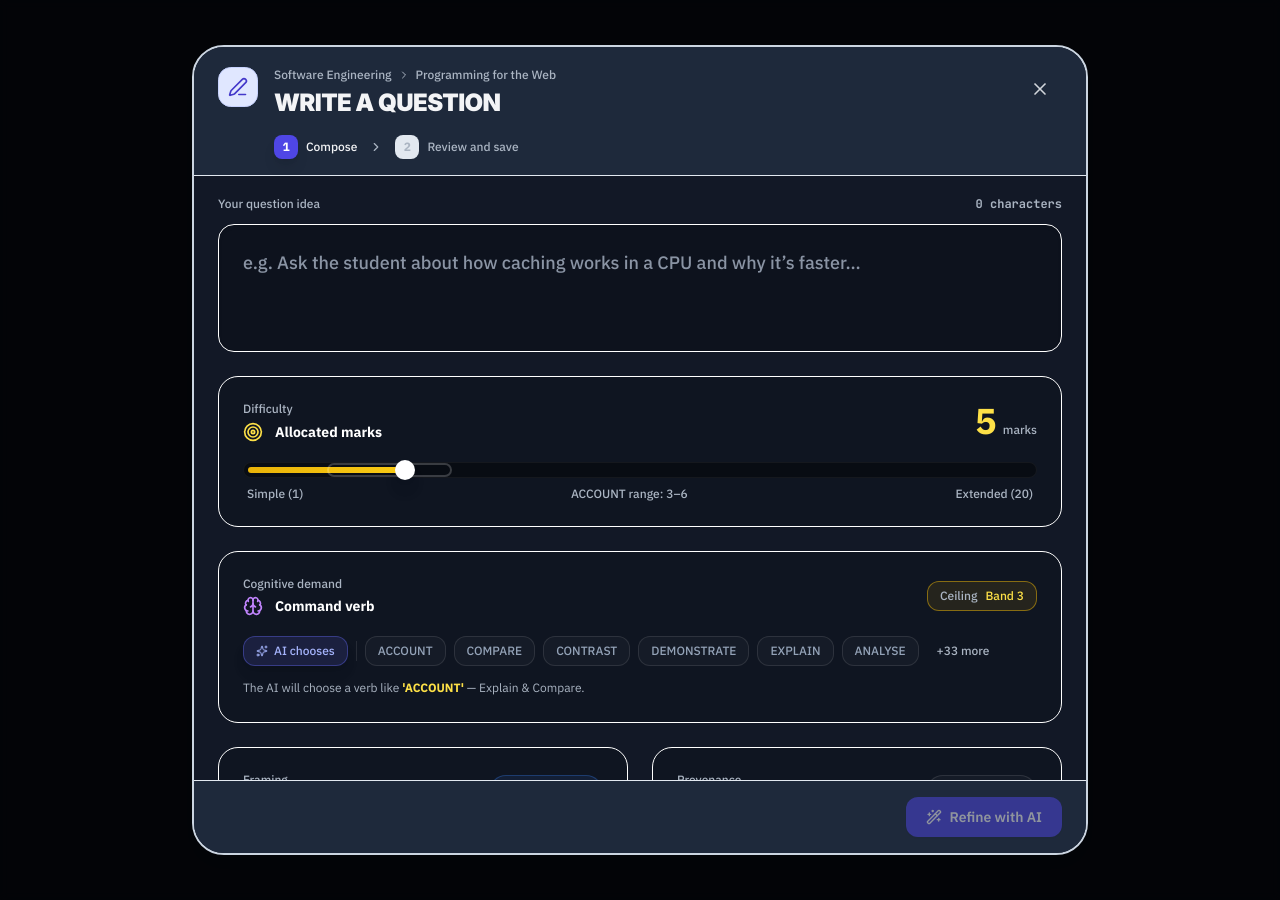
ManualPromptModal — composing › leaves the verb to the AI by default and pins it when one is chosen
Step 1. Replace the text in the text box labelled "Your question idea" with "ask about CPU caching" → coordinates (640, 288), box [218,224,1062,352]
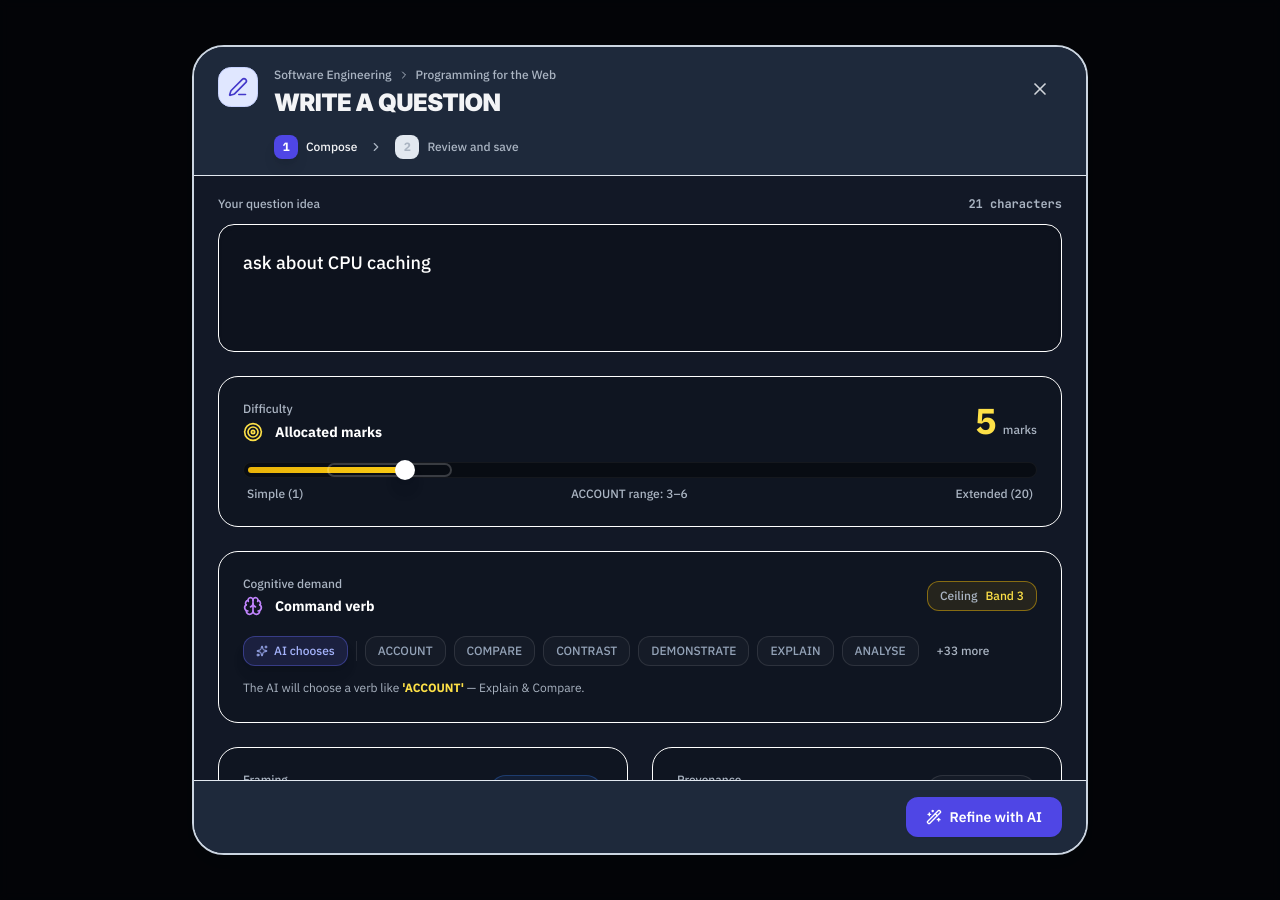
Step 2. Click the button "ANALYSE" → coordinates (880, 651), box [842,636,918,666]
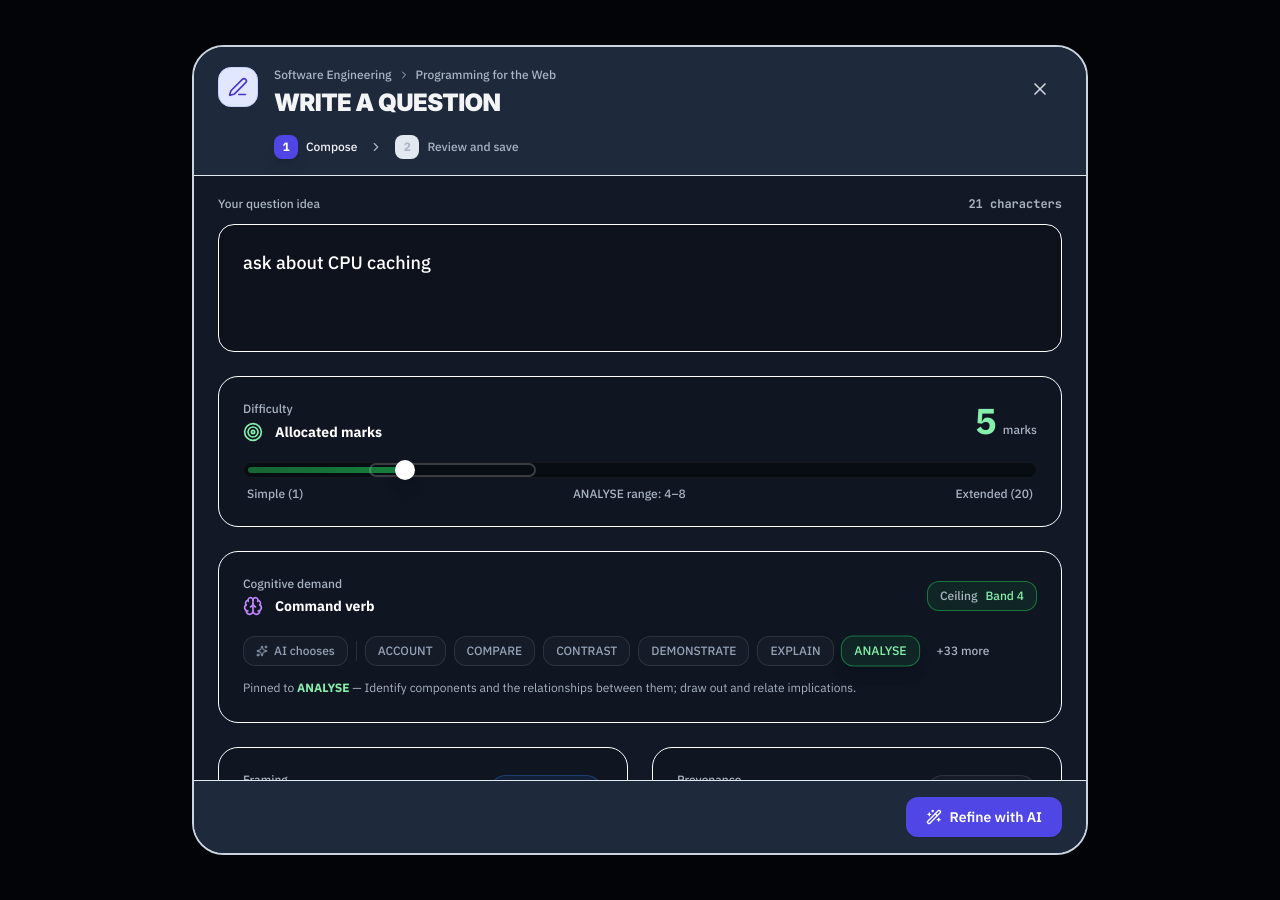
Step 3. Click the button "Refine with AI" → coordinates (984, 817), box [906,797,1062,837]
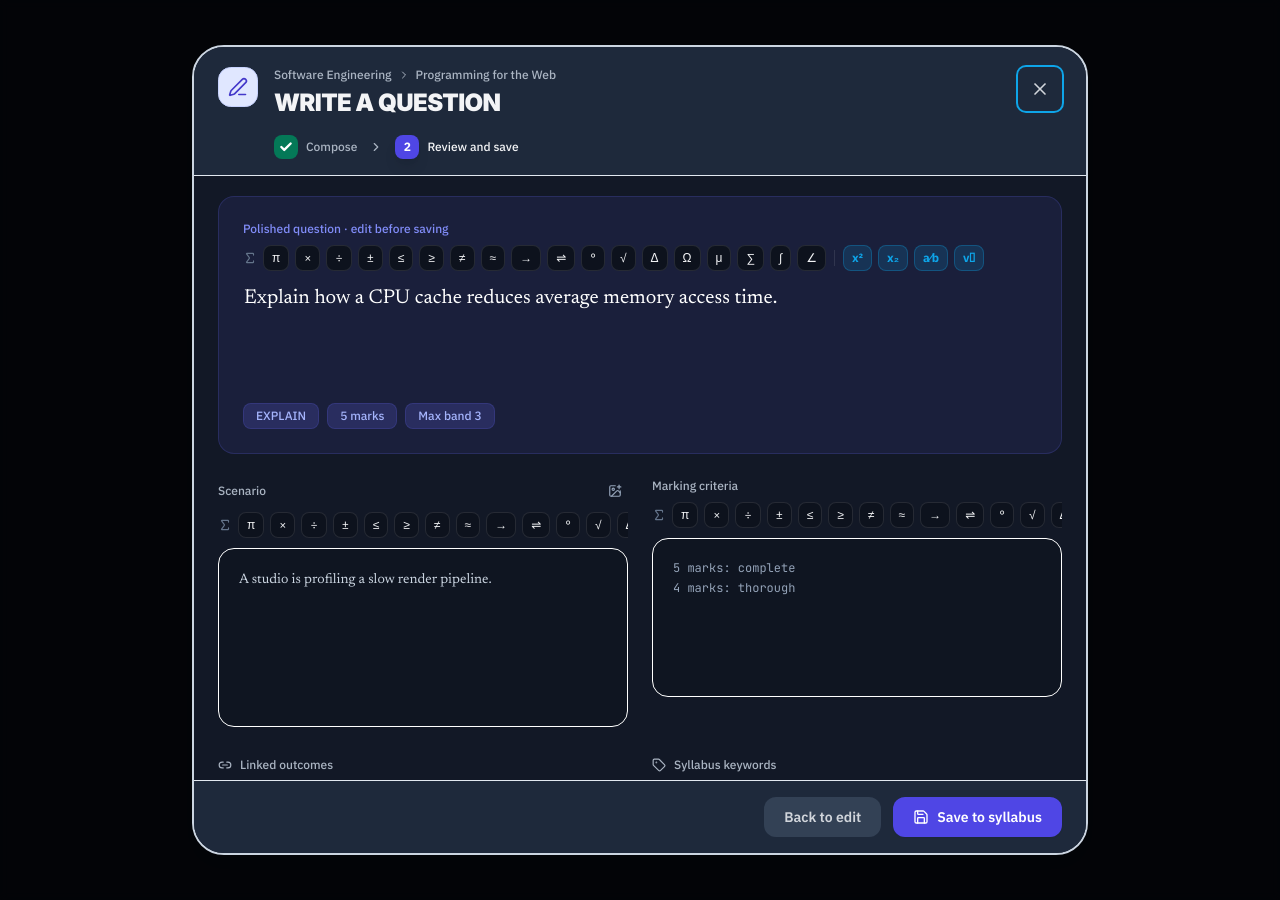
Expected: the text box labelled "Polished question · edit before saving" is shown, [235,273,1029,389]
